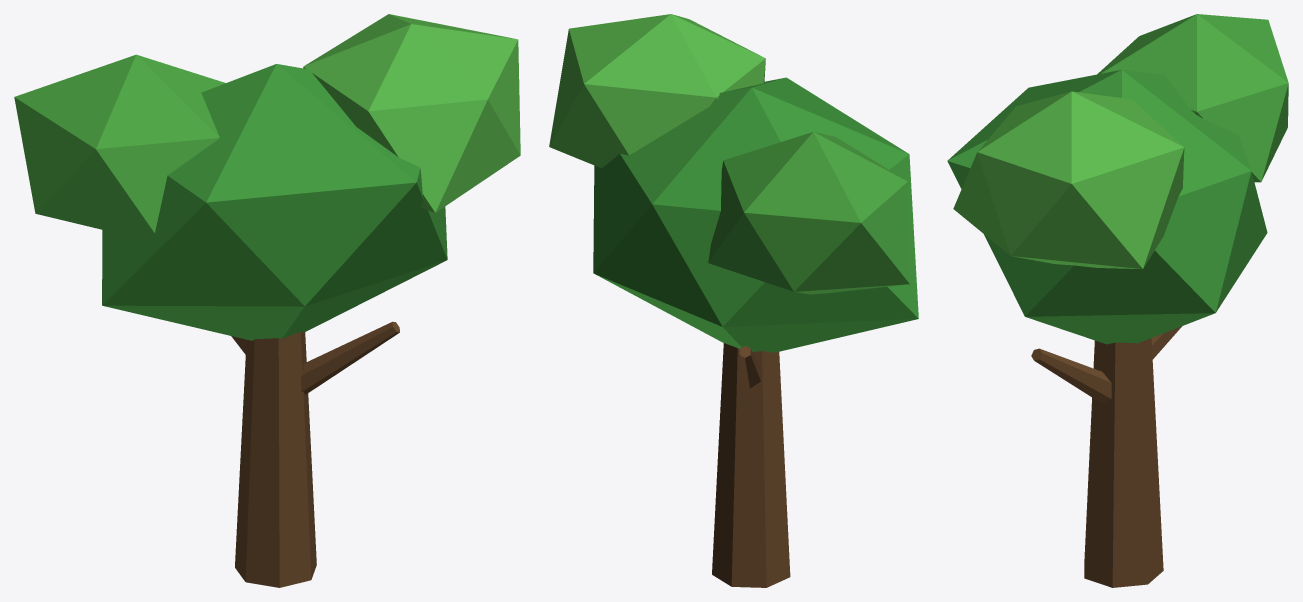
The model's file is oak_tree.glb.
The picture shows the model from 3 angles, left to right: view 1: azimuth 30°, elevation 25°; view 2: azimuth 150°, elevation 25°; view 3: azimuth 270°, elevation 25°; orthographic projection. The views are drawn at different scales.
Visible parts, largest first — view 1: oak_tree; view 2: oak_tree; view 3: oak_tree.
Boxes of the visible parts, x1,y1,x2,y2 form: oak_tree: (14, 14, 520, 587); oak_tree: (549, 14, 918, 587); oak_tree: (947, 14, 1288, 587).
Size of the model in its own units: 5.74 by 7.04 by 4.09.
